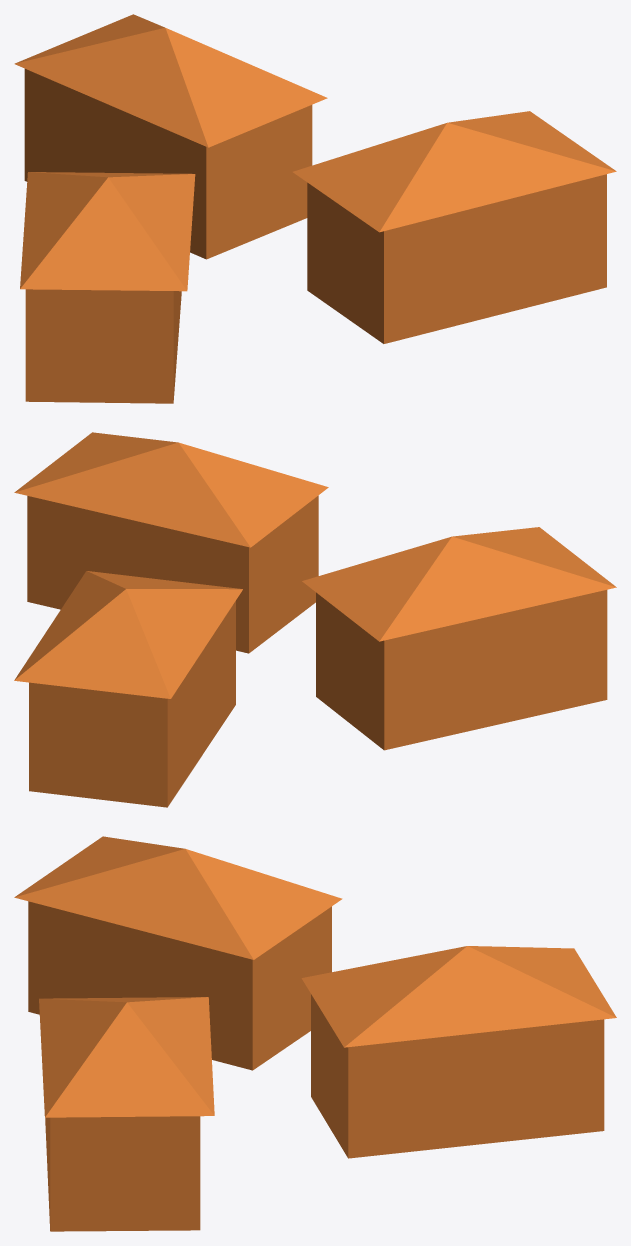
The model's file is cottages.fbx.
3 views of the same model, one above another, from view 1: azimuth 30°, elevation 25°; view 2: azimuth 150°, elevation 25°; view 3: azimuth 270°, elevation 25° (orthographic). The views are drawn at different scales.
Parts seen in each view (by area): view 1: Cone.002; view 2: Cone.002; view 3: Cone.002.
Part boxes in pixels (box(x1,y1,x2,y2)): Cone.002: box(14, 14, 616, 403); Cone.002: box(14, 432, 616, 807); Cone.002: box(14, 836, 616, 1231).
Bounding box in the file's own units: 2117 × 593 × 1918.
